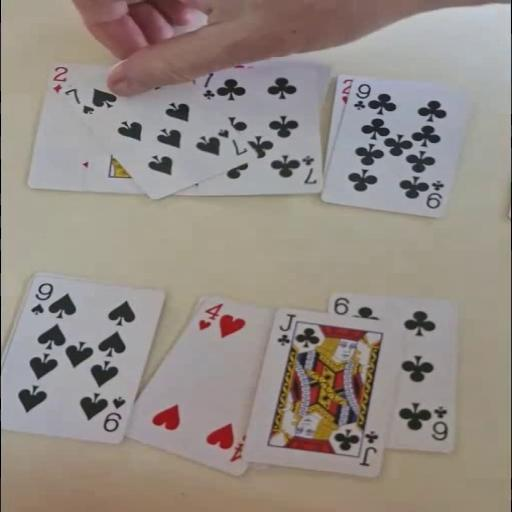2: (50, 64, 70, 94)
4: (195, 300, 224, 331)
6: (429, 404, 450, 442)
7: (215, 126, 250, 157), (300, 153, 318, 185)
9: (100, 394, 128, 434), (27, 280, 55, 316), (423, 178, 446, 210), (350, 81, 372, 111), (343, 78, 355, 108)
J: (356, 428, 380, 467), (273, 312, 297, 346)
